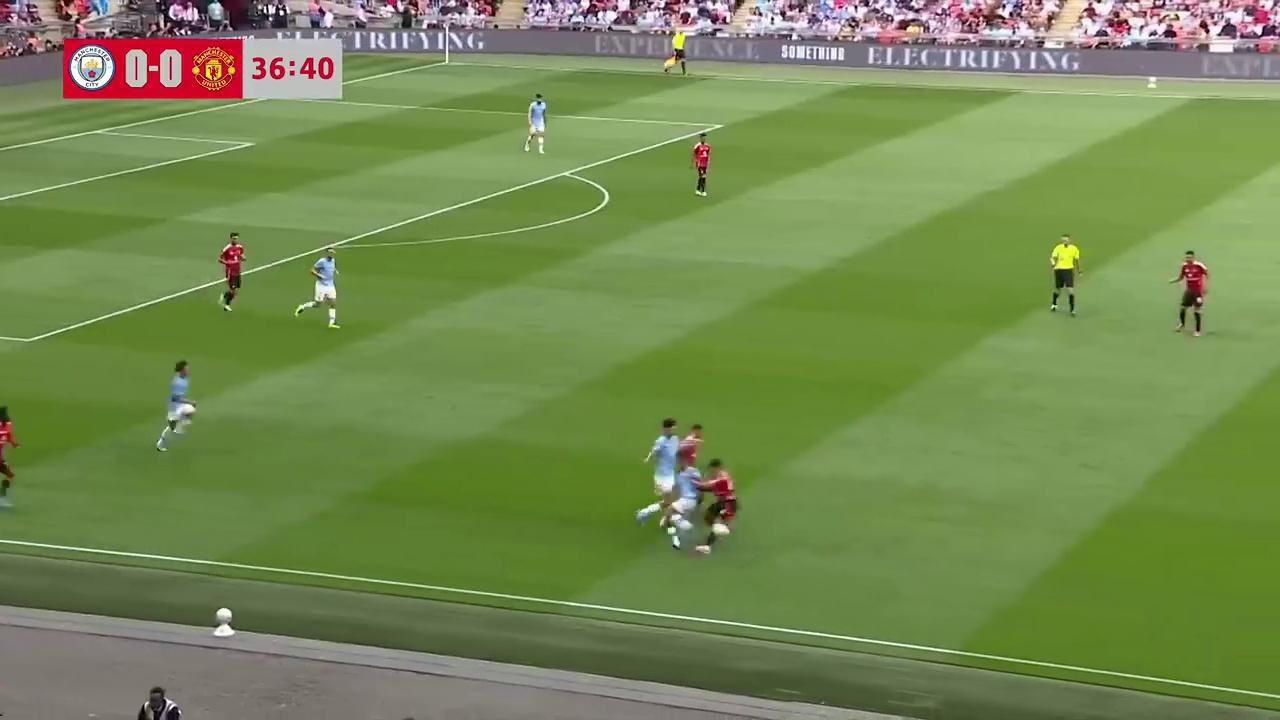ball: (676, 514, 692, 534)
player: (659, 420, 718, 542), (638, 418, 681, 528), (692, 457, 738, 554), (154, 360, 197, 451), (295, 246, 340, 328), (1168, 249, 1209, 336), (218, 231, 245, 313), (0, 406, 19, 510), (523, 93, 547, 154), (691, 135, 710, 196)
referee: (1048, 234, 1082, 317), (662, 29, 687, 77)
